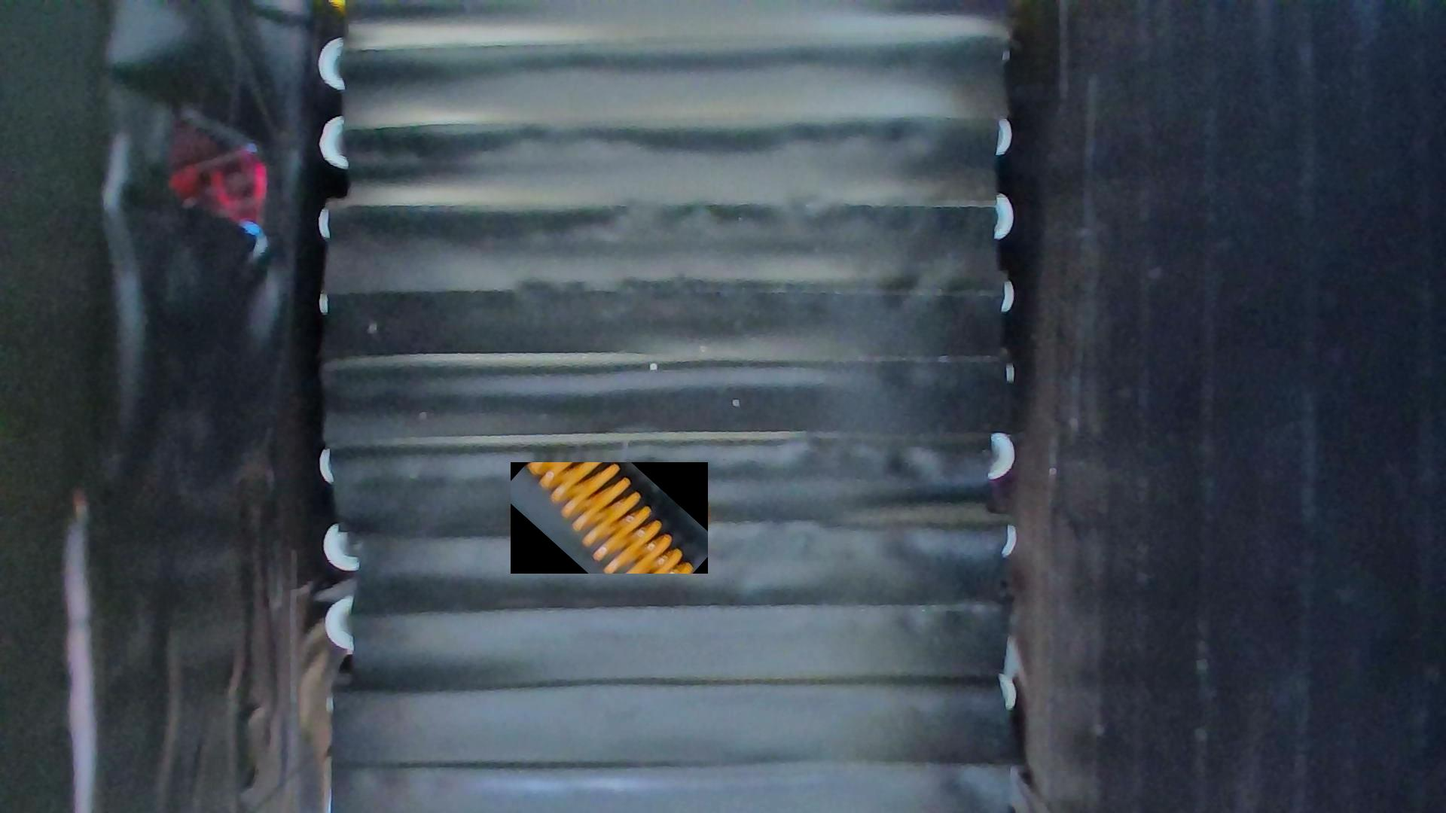spring: (511, 463, 708, 574)
